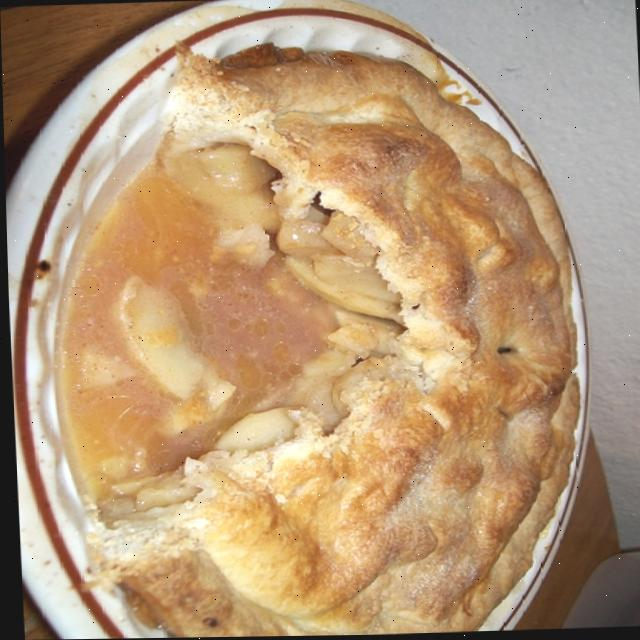炸货点心: (13, 0, 614, 640)
蛋糕甜品: (13, 0, 614, 640)
